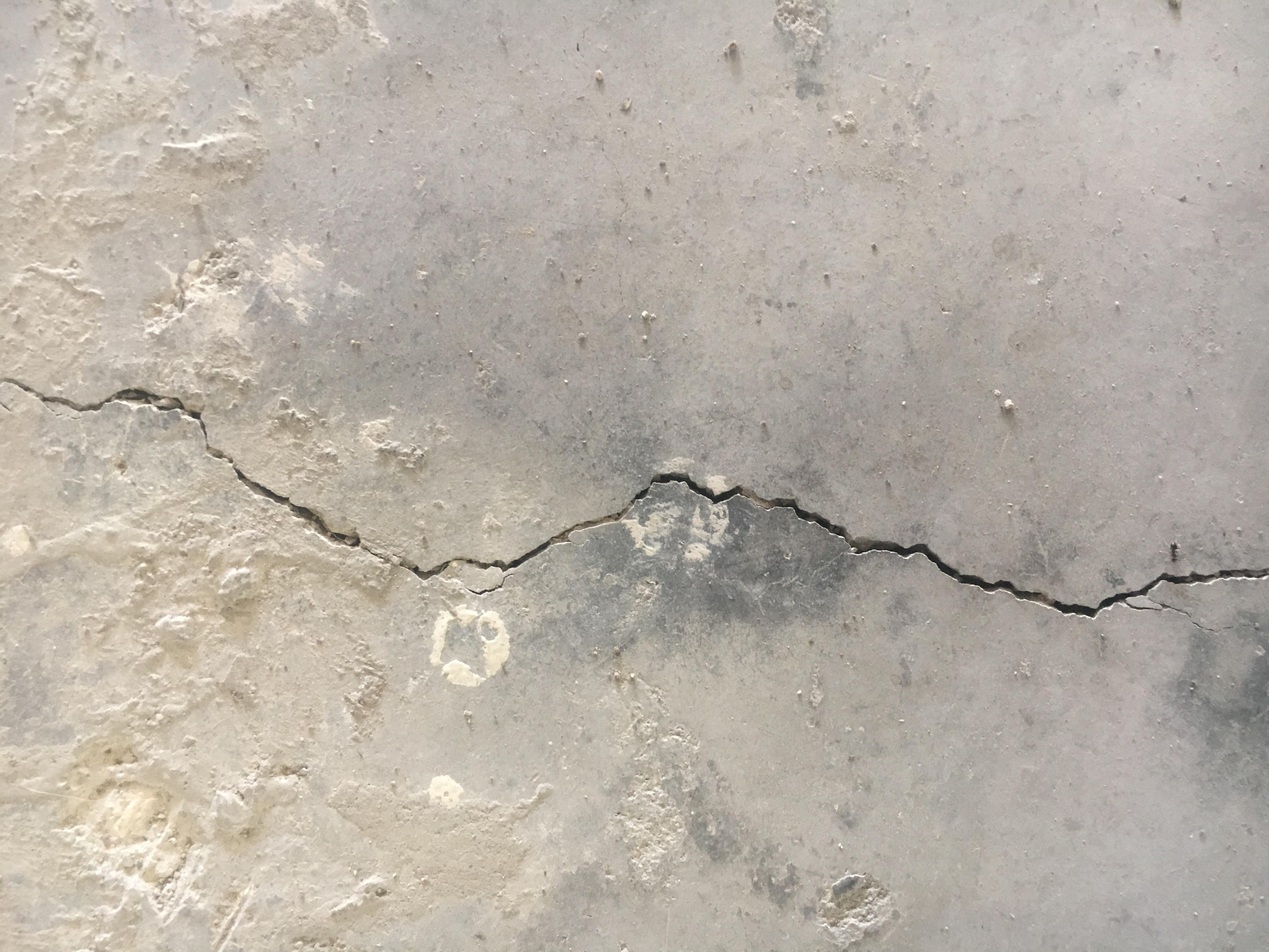Horizontal Settlement Crack: (3, 372, 1266, 632)
